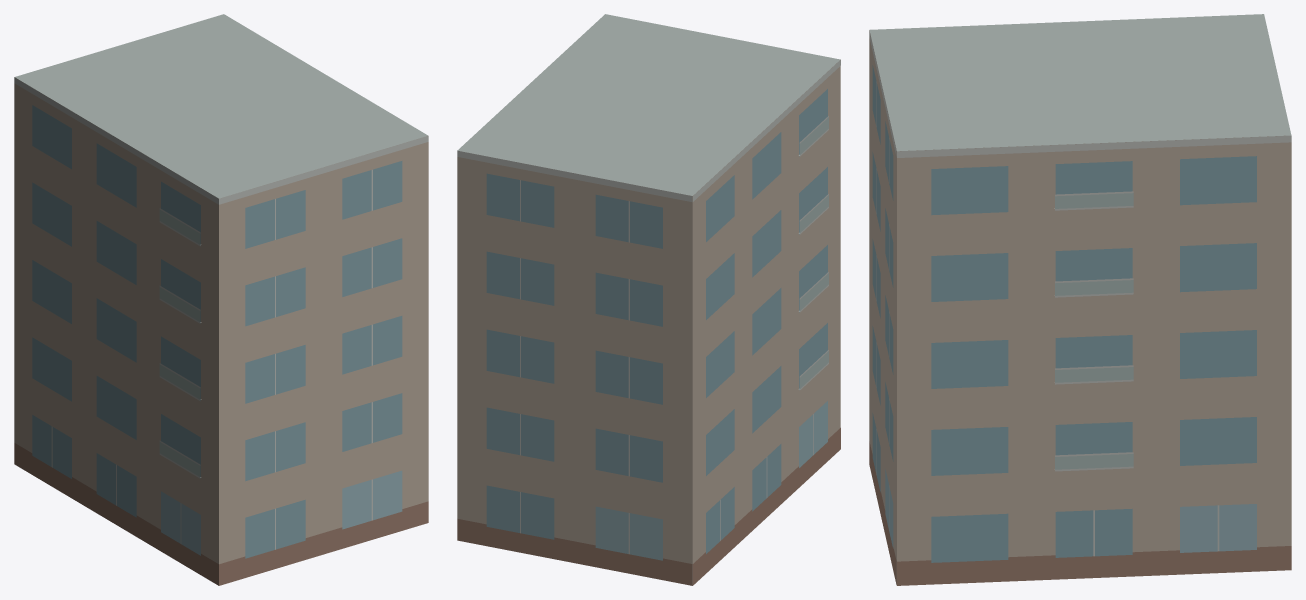
The model's file is survey-upis-32631022.glb.
The picture shows the model from 3 angles, left to right: view 1: azimuth 30°, elevation 25°; view 2: azimuth 150°, elevation 25°; view 3: azimuth 270°, elevation 25°; orthographic projection. The views are drawn at different scales.
Visible parts, largest first — view 1: survey-upis-32631022.tmp; view 2: survey-upis-32631022.tmp; view 3: survey-upis-32631022.tmp.
Part boxes in pixels (left/top/right/bottom): survey-upis-32631022.tmp: left=14, top=14, right=428, bottom=585; survey-upis-32631022.tmp: left=457, top=14, right=840, bottom=585; survey-upis-32631022.tmp: left=869, top=14, right=1291, bottom=585.
Size of the model in its own units: 10.4 by 15.35 by 13.52.
